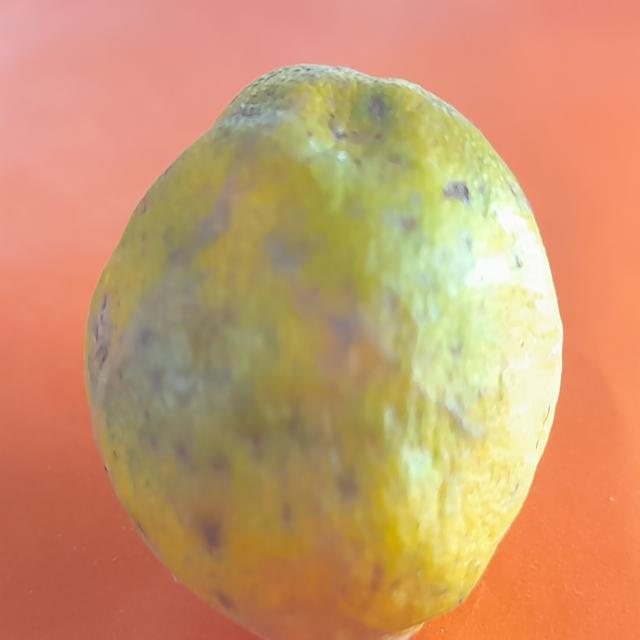black spot: (81, 32, 571, 634)
